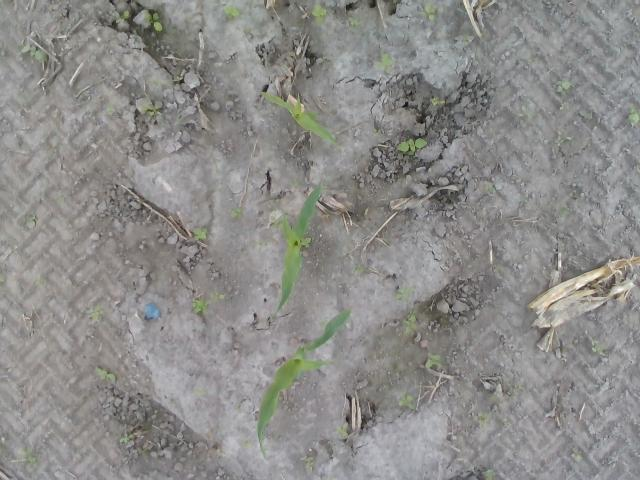Maize: (256, 307, 354, 467), (270, 185, 322, 319), (262, 90, 340, 150)
Weeds: (190, 288, 224, 314), (16, 44, 49, 64), (398, 138, 428, 156), (142, 8, 164, 32), (416, 3, 441, 22), (372, 51, 394, 72), (299, 448, 317, 473), (401, 309, 416, 338), (552, 78, 576, 96), (554, 127, 575, 146), (311, 2, 328, 25), (398, 390, 417, 410), (17, 446, 38, 464), (17, 208, 37, 224), (96, 367, 116, 383), (625, 102, 640, 123), (88, 303, 105, 321), (514, 102, 532, 119), (478, 410, 497, 426), (424, 352, 442, 368), (336, 421, 350, 440), (394, 288, 416, 300), (192, 226, 208, 241), (144, 104, 161, 118), (223, 6, 241, 19), (346, 14, 362, 28), (570, 447, 584, 462), (592, 339, 606, 353), (462, 32, 476, 46), (481, 467, 496, 480), (120, 432, 136, 444), (104, 102, 116, 118), (116, 9, 130, 22), (481, 180, 496, 192), (256, 446, 271, 457), (35, 274, 48, 286), (370, 126, 384, 137), (56, 191, 65, 208), (431, 96, 446, 106), (558, 206, 570, 218), (256, 239, 272, 248), (288, 178, 302, 188), (300, 237, 312, 248), (354, 262, 365, 274), (387, 0, 399, 10), (230, 207, 240, 219), (270, 196, 281, 205), (150, 78, 161, 86), (0, 272, 5, 289), (260, 90, 274, 96), (174, 75, 184, 83), (518, 195, 528, 203), (320, 185, 329, 193)
